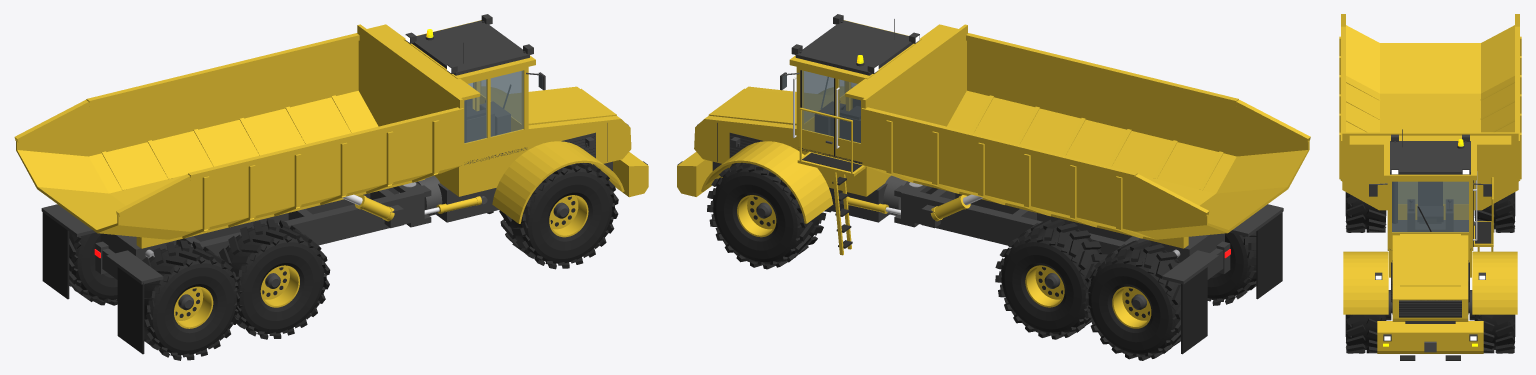
Rendered from articulated_dump_truck.glb.
The picture shows the model from 3 angles, left to right: view 1: azimuth 30°, elevation 25°; view 2: azimuth 150°, elevation 25°; view 3: azimuth 270°, elevation 25°; orthographic projection. The views are drawn at different scales.
Parts seen in each view (by area): view 1: dump_body, trailer_frame, cab, tractor, wheel_bogie_front_right, wheel_bogie_rear_right, wheel_front_right, wheel_bogie_rear_left, hitch; view 2: dump_body, cab, trailer_frame, tractor, wheel_bogie_front_left, wheel_bogie_rear_left, wheel_front_left, wheel_bogie_rear_right, hitch; view 3: dump_body, tractor, cab, wheel_front_right, wheel_front_left, wheel_bogie_front_right, wheel_bogie_front_left, axles.
Part boxes in pixels (x1,y1,x2,y2): dump_body: (14,24,480,248); trailer_frame: (41,187,424,354); cab: (403,14,545,196); tractor: (436,86,648,223); wheel_bogie_front_right: (219,219,330,339); wheel_bogie_rear_right: (142,240,242,360); wheel_front_right: (499,163,618,269); wheel_bogie_rear_left: (69,232,117,305); hitch: (393,175,487,227); dump_body: (845,24,1310,248); cab: (780,14,921,255); trailer_frame: (901,187,1283,354); tractor: (677,86,889,223); wheel_bogie_front_left: (995,219,1107,339); wheel_bogie_rear_left: (1082,240,1180,360); wheel_front_left: (707,162,826,269); wheel_bogie_rear_right: (1207,231,1256,305); hitch: (839,175,932,227); dump_body: (1339,14,1521,210); tractor: (1343,182,1517,360); cab: (1369,129,1493,277); wheel_front_right: (1345,314,1386,353); wheel_front_left: (1474,314,1515,353); wheel_bogie_front_right: (1345,192,1386,232); wheel_bogie_front_left: (1474,192,1515,232); axles: (1386,290,1474,320).
Bounding box in the file's own units: 10.86 × 4.12 × 3.6.
